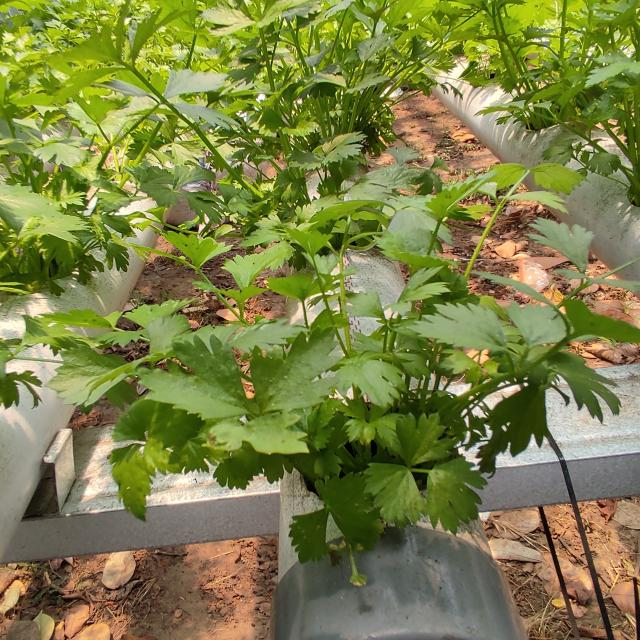Wet Waste: (64, 211, 621, 537)
